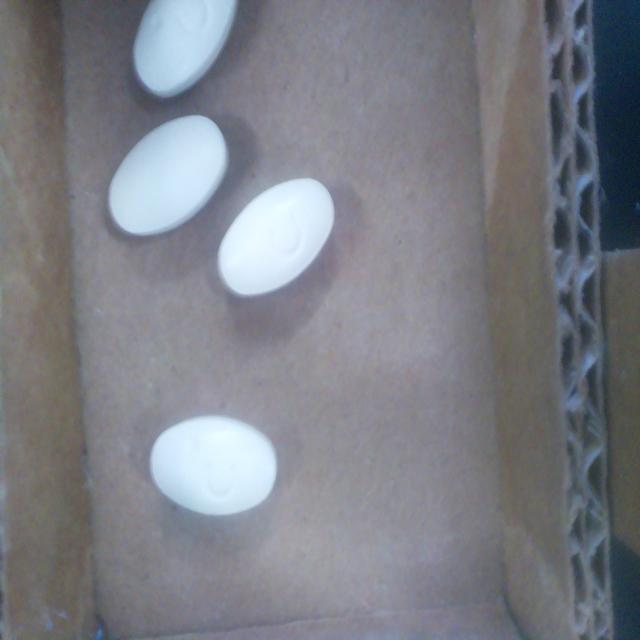pill: (108, 115, 228, 236), (218, 179, 334, 297), (150, 417, 277, 515), (133, 0, 236, 97)
